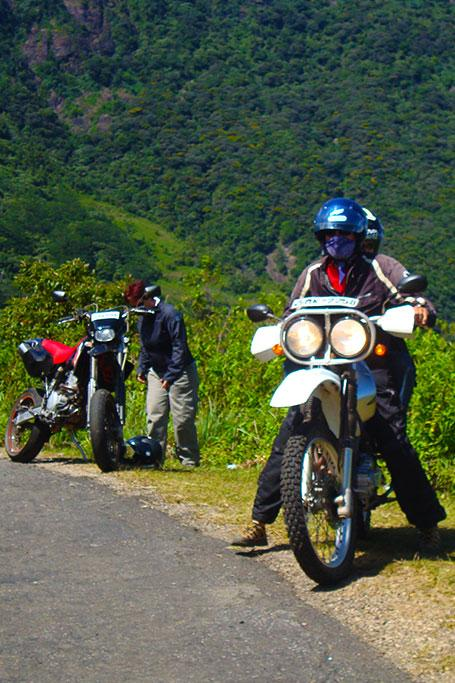motorbike: (246, 274, 422, 584), (4, 292, 155, 472)
